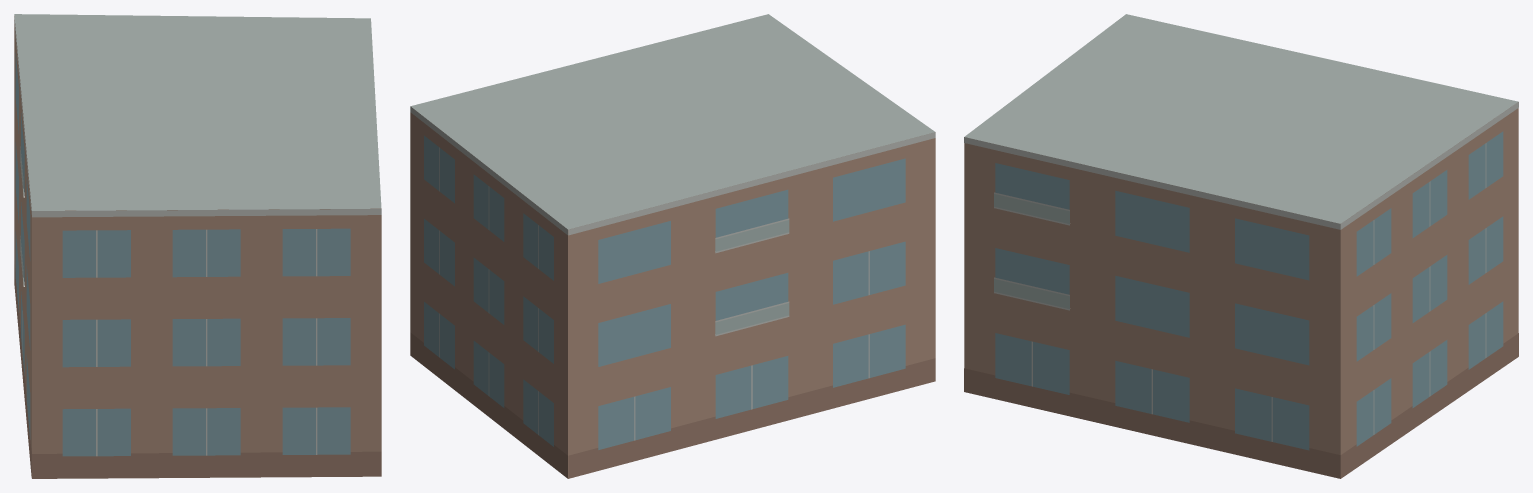
File: survey-upis-32476442.glb
The picture shows the model from 3 angles, left to right: view 1: azimuth 30°, elevation 25°; view 2: azimuth 150°, elevation 25°; view 3: azimuth 270°, elevation 25°; orthographic projection. The views are drawn at different scales.
Visible parts, largest first — view 1: survey-upis-32476442.tmp; view 2: survey-upis-32476442.tmp; view 3: survey-upis-32476442.tmp.
Boxes of the visible parts, left/top/right/bottom form: survey-upis-32476442.tmp: left=14, top=14, right=381, bottom=478; survey-upis-32476442.tmp: left=410, top=14, right=935, bottom=478; survey-upis-32476442.tmp: left=964, top=14, right=1518, bottom=478.
Size of the model in its own units: 18.19 by 10.3 by 20.31.
